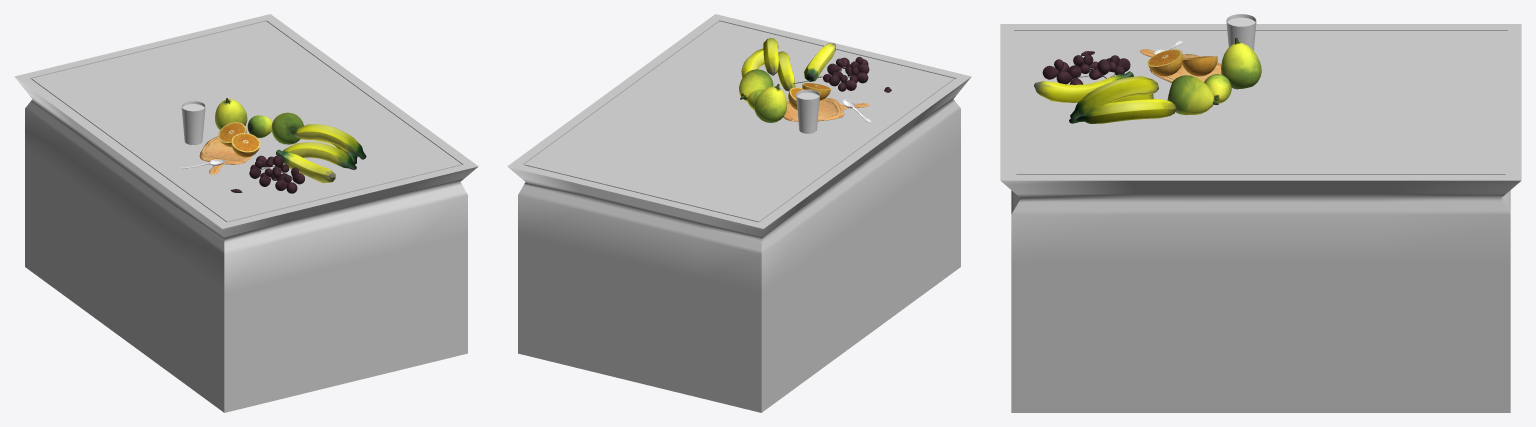
File: BreakFast.fbx
The picture shows the model from 3 angles, left to right: view 1: azimuth 30°, elevation 25°; view 2: azimuth 150°, elevation 25°; view 3: azimuth 270°, elevation 25°; orthographic projection. The views are drawn at different scales.
Parts seen in each view (by area): view 1: mesa, banana_2, banana, Jugo, Tabla, banana_1, Limon_2, Limon_1, naranja2_1, Limon, naranja2; view 2: mesa, Limon_1, Jugo, Tabla, Limon_2, banana_1, banana_2, banana; view 3: mesa, banana_2_2, banana_2, Limon_1, Limon_2, banana_1, Jugo, naranja2_1, naranja2, Tabla, Limon.
Boxes of the visible parts, left/top/right/bottom form: mesa: left=14, top=14, right=478, bottom=412; banana_2: left=294, top=124, right=366, bottom=159; banana: left=283, top=142, right=356, bottom=169; Jugo: left=181, top=101, right=205, bottom=144; Tabla: left=199, top=136, right=251, bottom=174; banana_1: left=276, top=149, right=335, bottom=183; Limon_2: left=271, top=112, right=303, bottom=144; Limon_1: left=215, top=98, right=247, bottom=129; naranja2_1: left=231, top=133, right=260, bottom=157; Limon: left=247, top=115, right=272, bottom=137; naranja2: left=218, top=122, right=246, bottom=147; mesa: left=507, top=14, right=971, bottom=412; Limon_1: left=754, top=83, right=786, bottom=122; Jugo: left=796, top=89, right=819, bottom=133; Tabla: left=783, top=98, right=869, bottom=121; Limon_2: left=739, top=69, right=773, bottom=101; banana_1: left=804, top=43, right=835, bottom=81; banana_2: left=763, top=38, right=778, bottom=75; banana: left=777, top=51, right=795, bottom=91; mesa: left=1000, top=24, right=1521, bottom=412; banana_2_2: left=1076, top=99, right=1176, bottom=123; banana_2: left=1070, top=76, right=1158, bottom=120; Limon_1: left=1221, top=38, right=1261, bottom=89; Limon_2: left=1167, top=75, right=1218, bottom=115; banana_1: left=1034, top=71, right=1133, bottom=102; Jugo: left=1226, top=14, right=1256, bottom=50; naranja2_1: left=1147, top=49, right=1183, bottom=76; naranja2: left=1182, top=56, right=1217, bottom=76; Tabla: left=1140, top=49, right=1221, bottom=83; Limon: left=1204, top=74, right=1231, bottom=103.
Bounding box in the file's own units: 4486 × 3783 × 6312.
